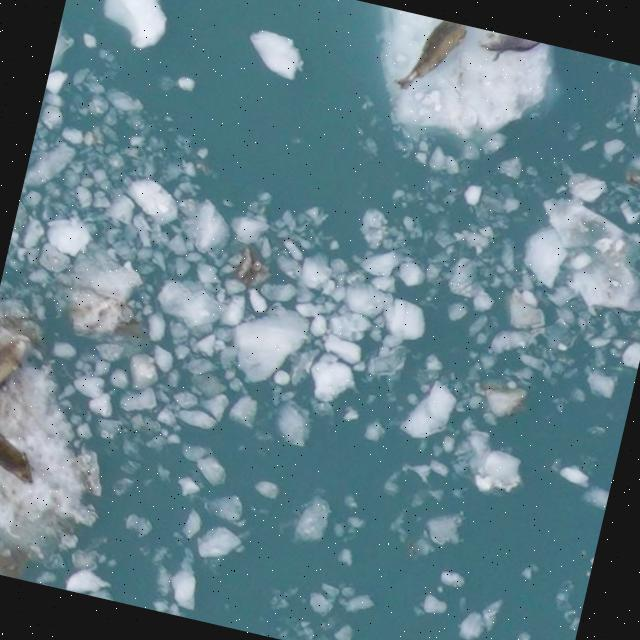seal: (396, 20, 468, 90), (0, 434, 35, 485), (0, 337, 29, 384), (479, 32, 541, 53)
